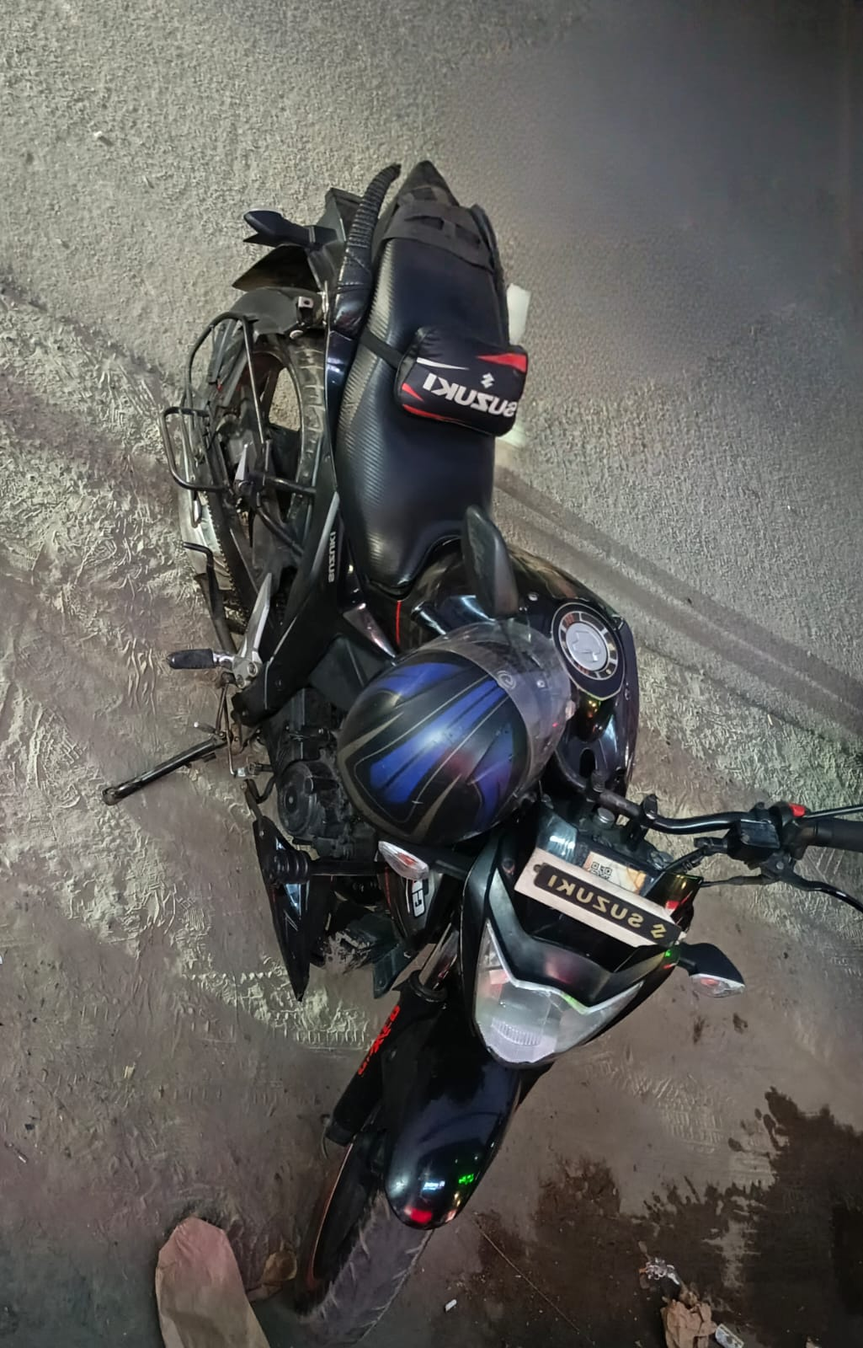Bikes: (114, 132, 863, 1320)
